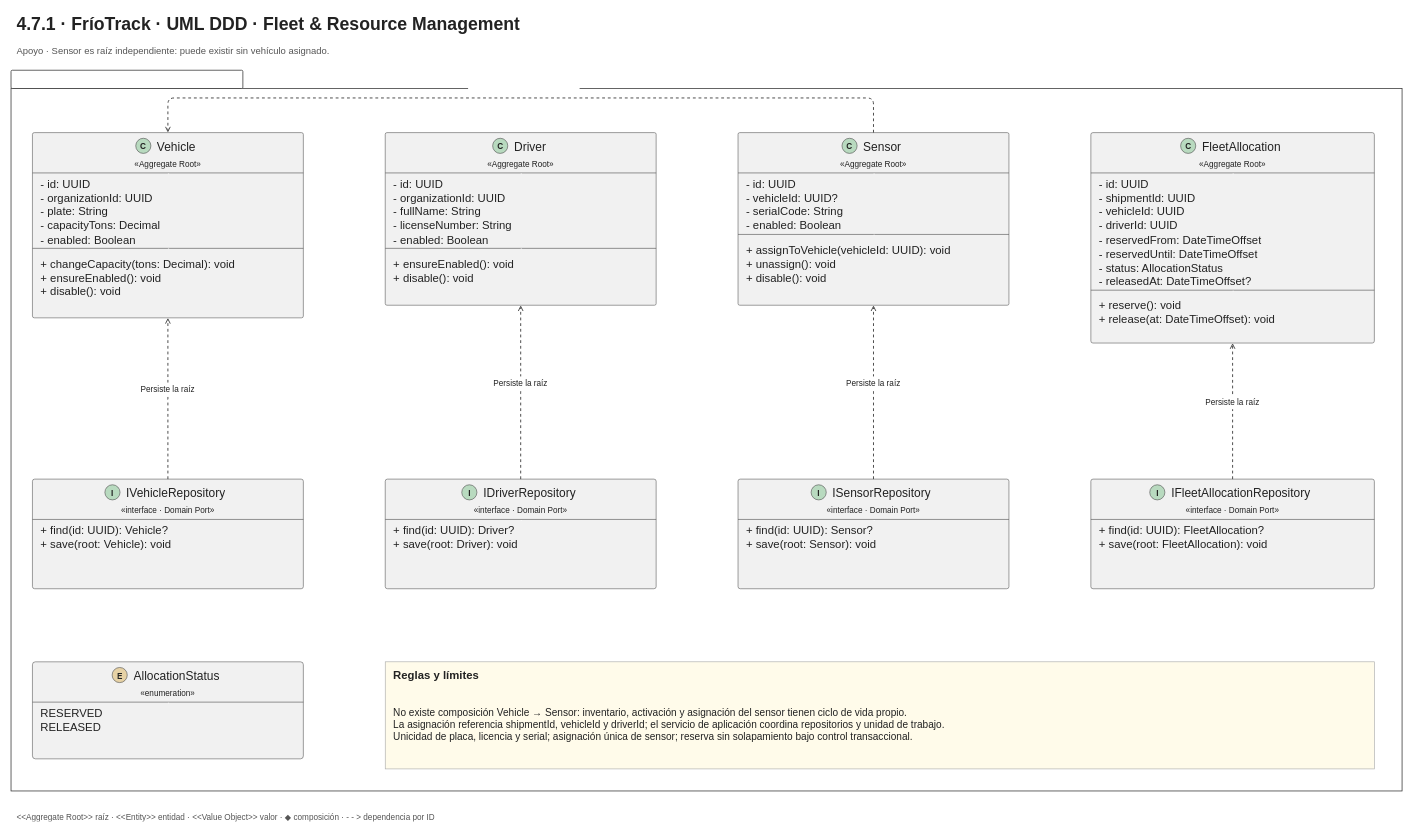
Image size: 1414x837. Some labels were removed from this diagram. The shapes that lost their labels are listed below. From the top down, each one's centre as x and y in pixels, then its label:
point (126, 79): Domain · Fleet & Resource Management
point (523, 87): vehicleId? · referencia por ID
